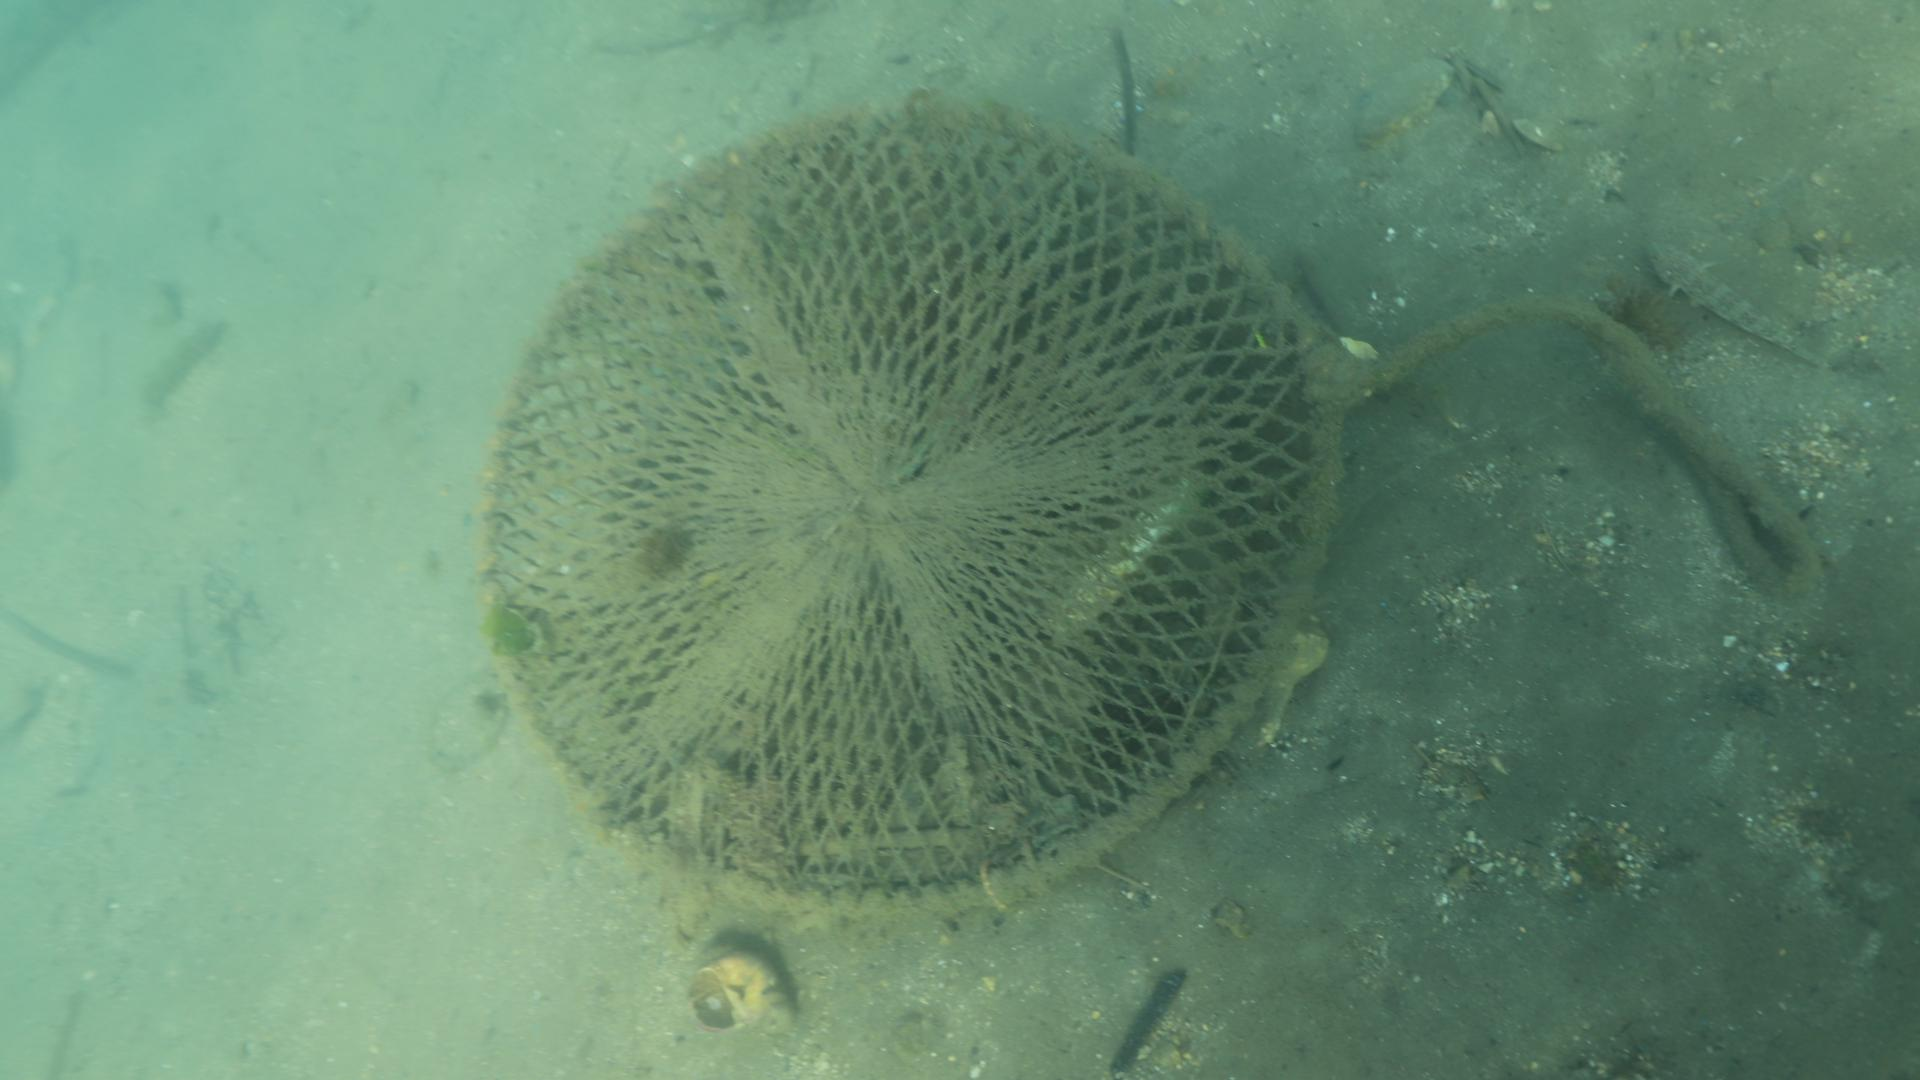bundle of ropes: (1341, 291, 1821, 597)
circular fish trap: (469, 98, 1337, 914)
